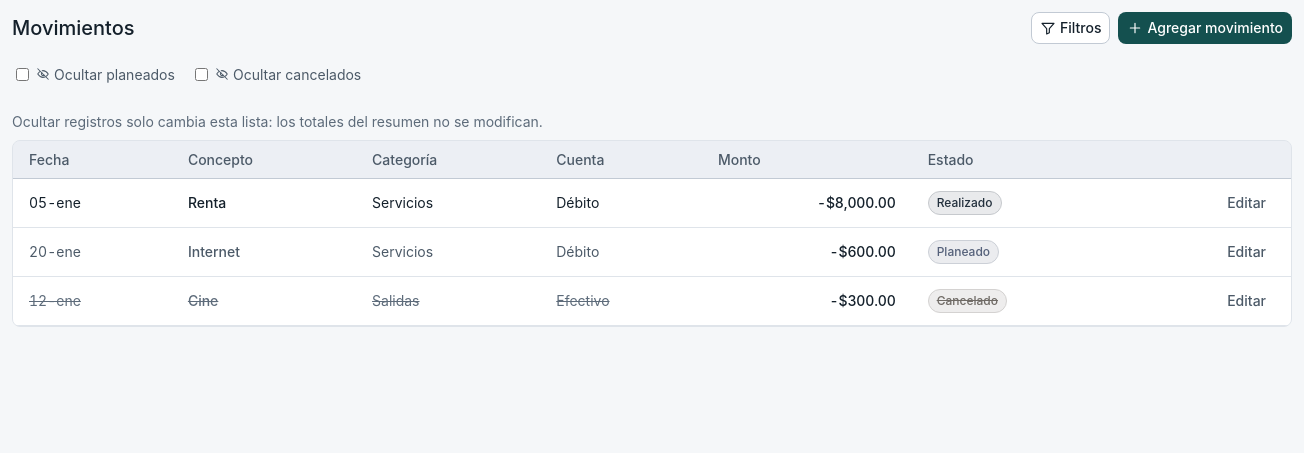
MovementTable › explains the empty result instead of looking broken
The width and height of the screenshot is (1304, 453).
Click the button "Filtros" at (1071, 28), box top-left (1031, 12), bottom-right (1110, 44)
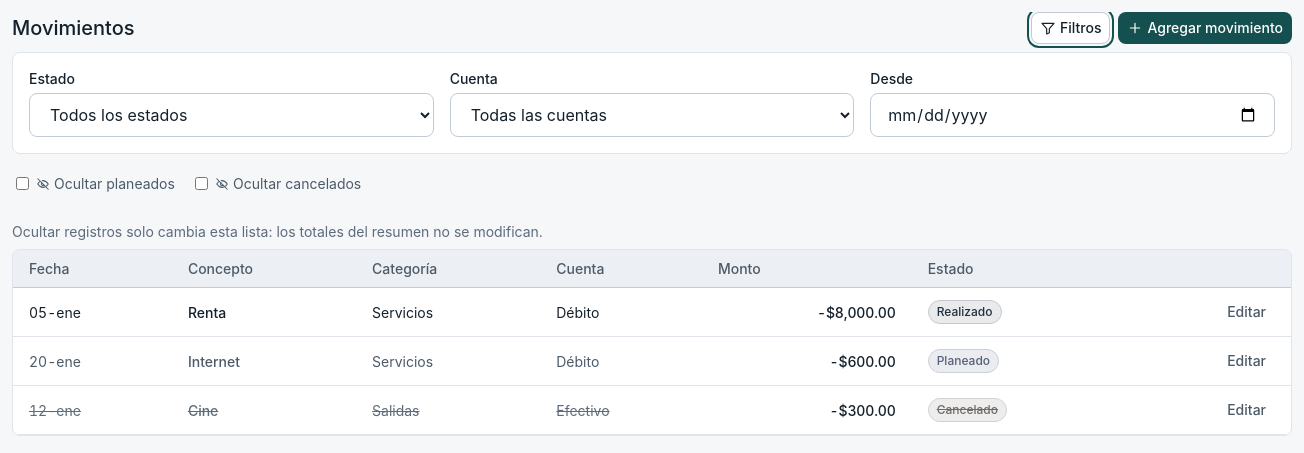
Select "Planeado" in the dropdown labelled "Estado" at (231, 115), box top-left (29, 93), bottom-right (434, 137)
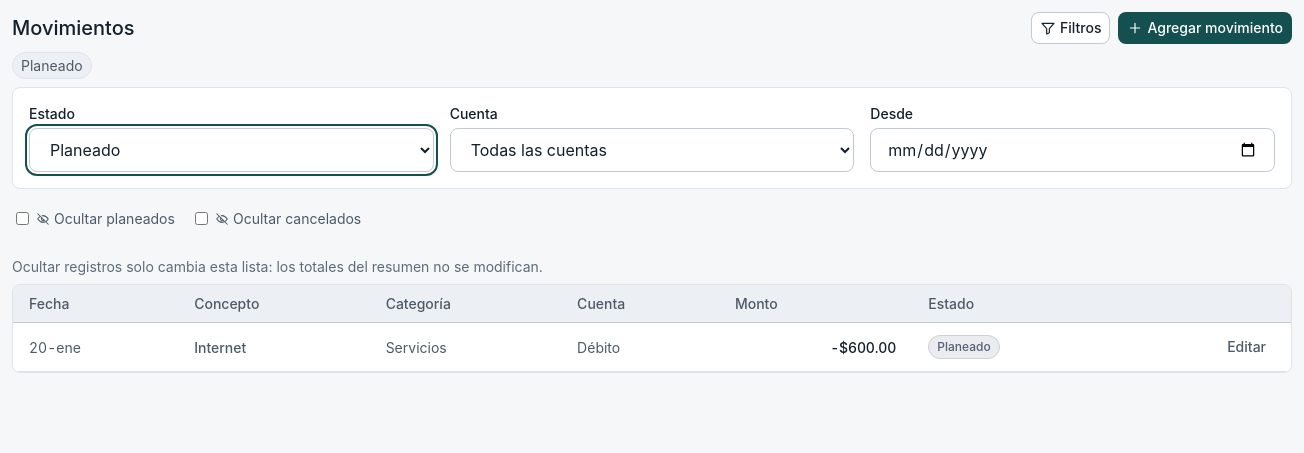
Select "Efectivo" in the dropdown labelled "Cuenta" at (652, 150), box top-left (450, 128), bottom-right (854, 172)
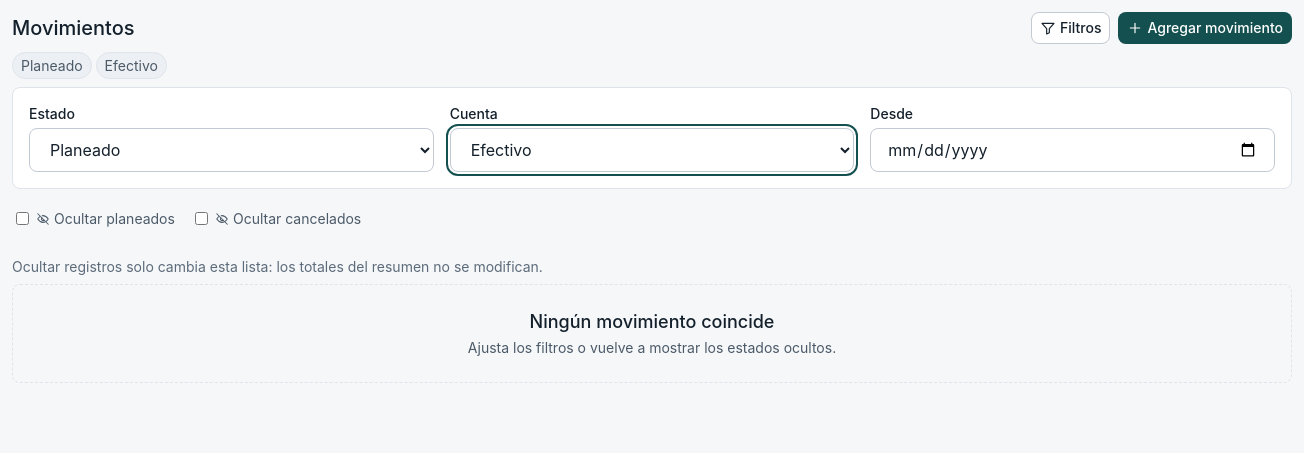
Now the text "Ningún movimiento coincide" is shown, box top-left (530, 309), bottom-right (774, 334)
